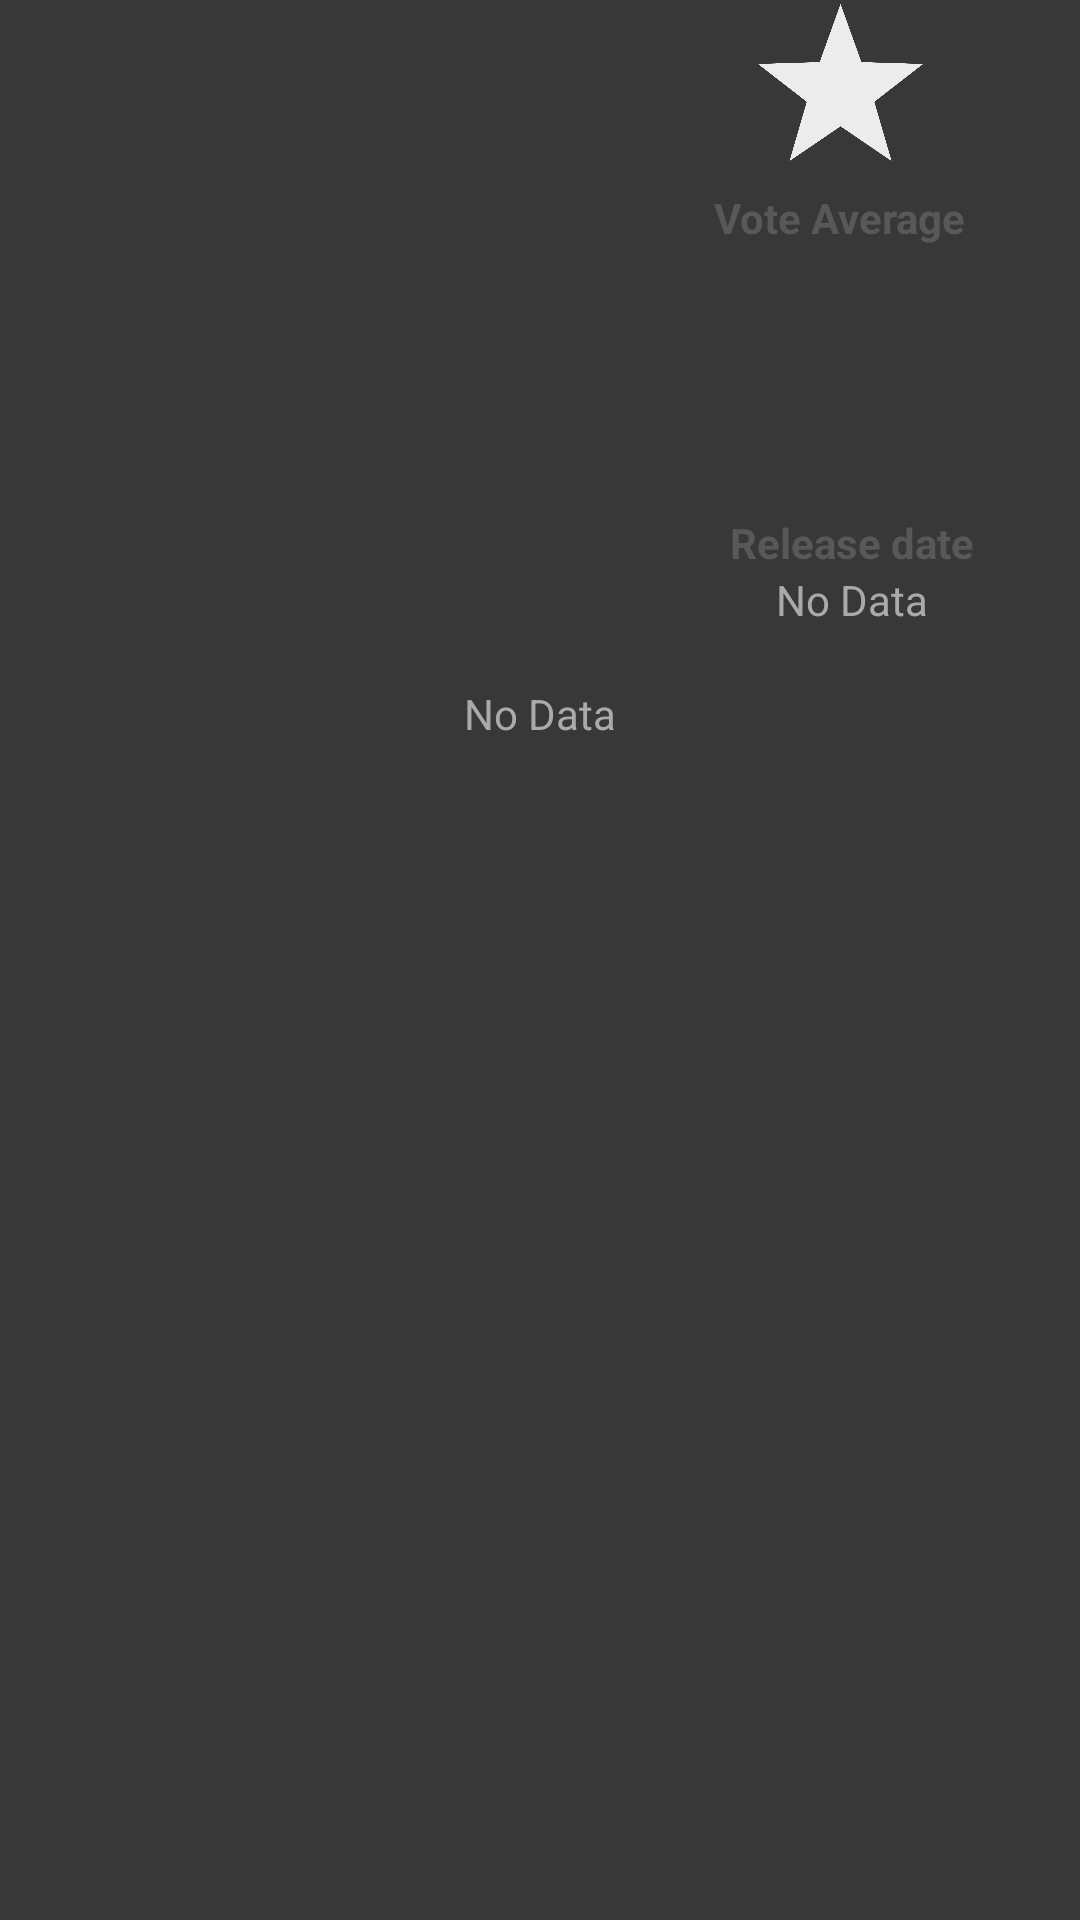

Named icons in this screenshot (1080*1920) and their bounding boxes, (x1, y1, x2, y2):
fav star: (758, 4, 923, 161)
